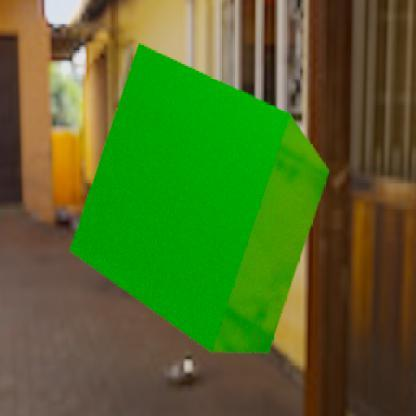cube: (69, 41, 329, 354)
